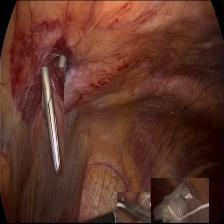Grasper: (43, 67, 64, 177), (117, 192, 150, 222)
Specimen Bag: (151, 178, 209, 224)
